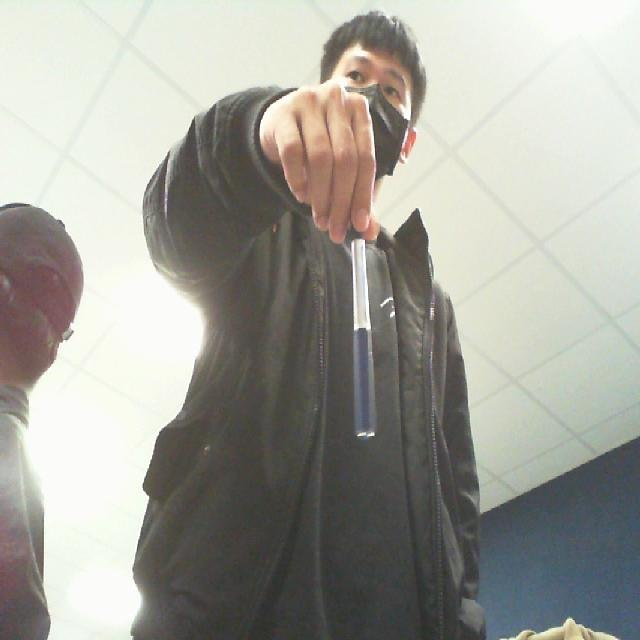Pen: (342, 214, 387, 474)
